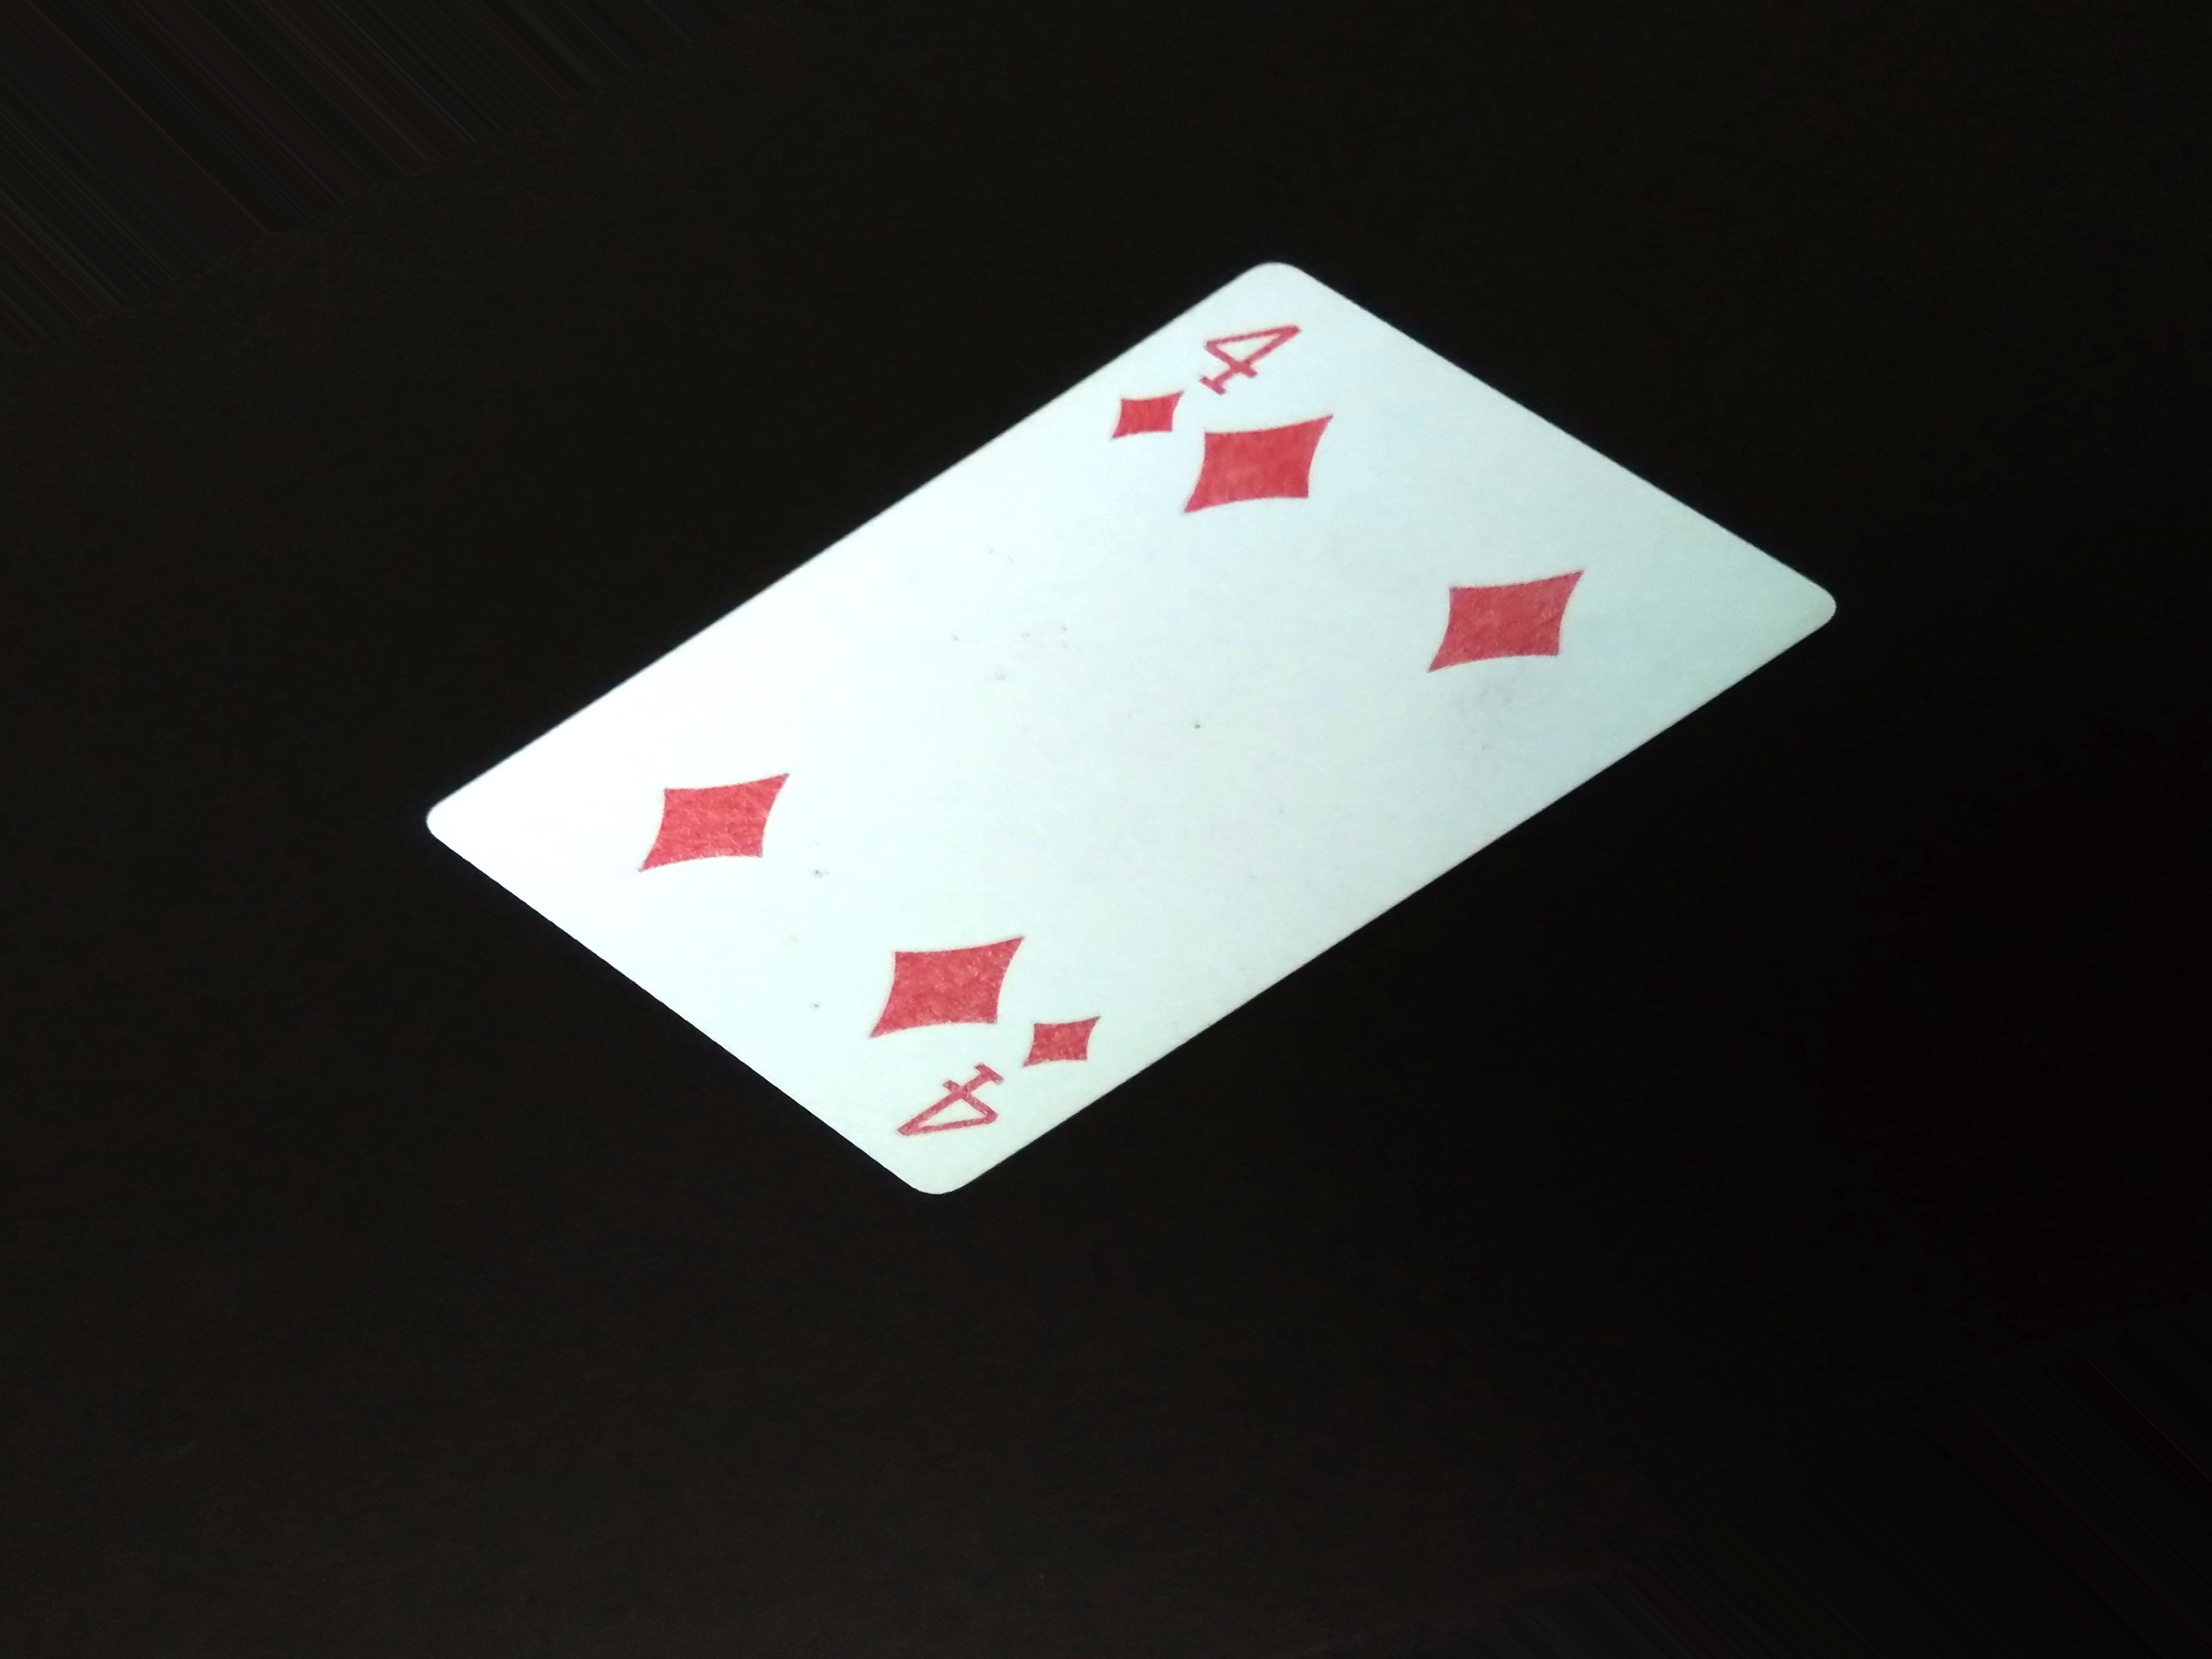4D: (1073, 303, 1287, 451)
